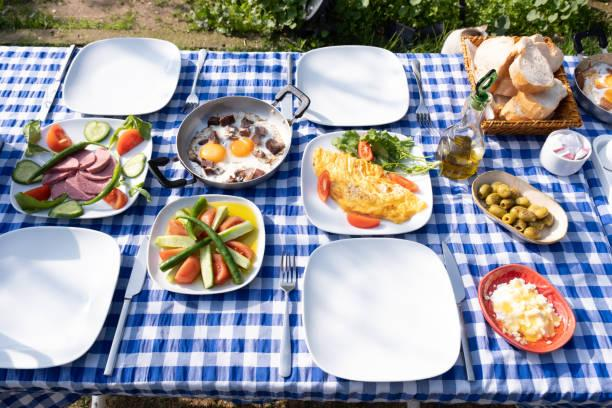Braised Crucian Carp: (15, 111, 148, 226), (299, 129, 441, 236), (166, 93, 301, 197), (147, 197, 269, 299), (460, 34, 579, 135), (477, 263, 576, 355), (470, 169, 568, 245)
